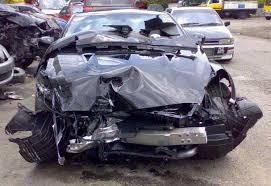Front-Windscreen-Damage: (80, 11, 178, 44)
bonnet-dent: (58, 47, 211, 99)
front-bumper-dent: (70, 105, 199, 151)
